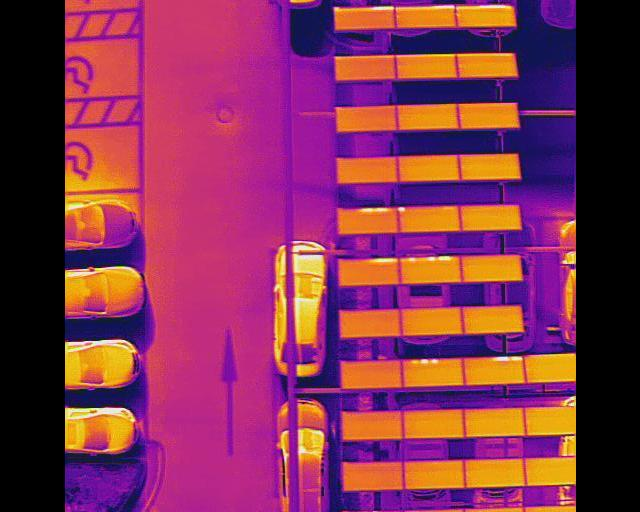Cell: (396, 206, 459, 232)
Cell-Multi: (399, 359, 464, 387), (398, 257, 461, 284)
No-Anomaly: (403, 461, 464, 491), (462, 459, 523, 489), (340, 361, 403, 390), (402, 411, 464, 440), (395, 155, 458, 183), (398, 309, 463, 336), (341, 412, 403, 440), (342, 462, 404, 490), (335, 158, 398, 185), (340, 310, 400, 338), (460, 308, 524, 334), (458, 154, 519, 181), (460, 255, 521, 282), (463, 410, 524, 437), (334, 107, 397, 133), (396, 104, 458, 130), (333, 57, 396, 82), (456, 206, 521, 230), (394, 55, 456, 80), (458, 104, 518, 129), (456, 54, 515, 79), (524, 457, 576, 485), (525, 408, 576, 436)
Unclassified: (464, 356, 525, 385), (336, 259, 398, 286), (337, 209, 398, 236), (333, 6, 396, 30), (393, 6, 456, 30), (454, 5, 515, 27)
